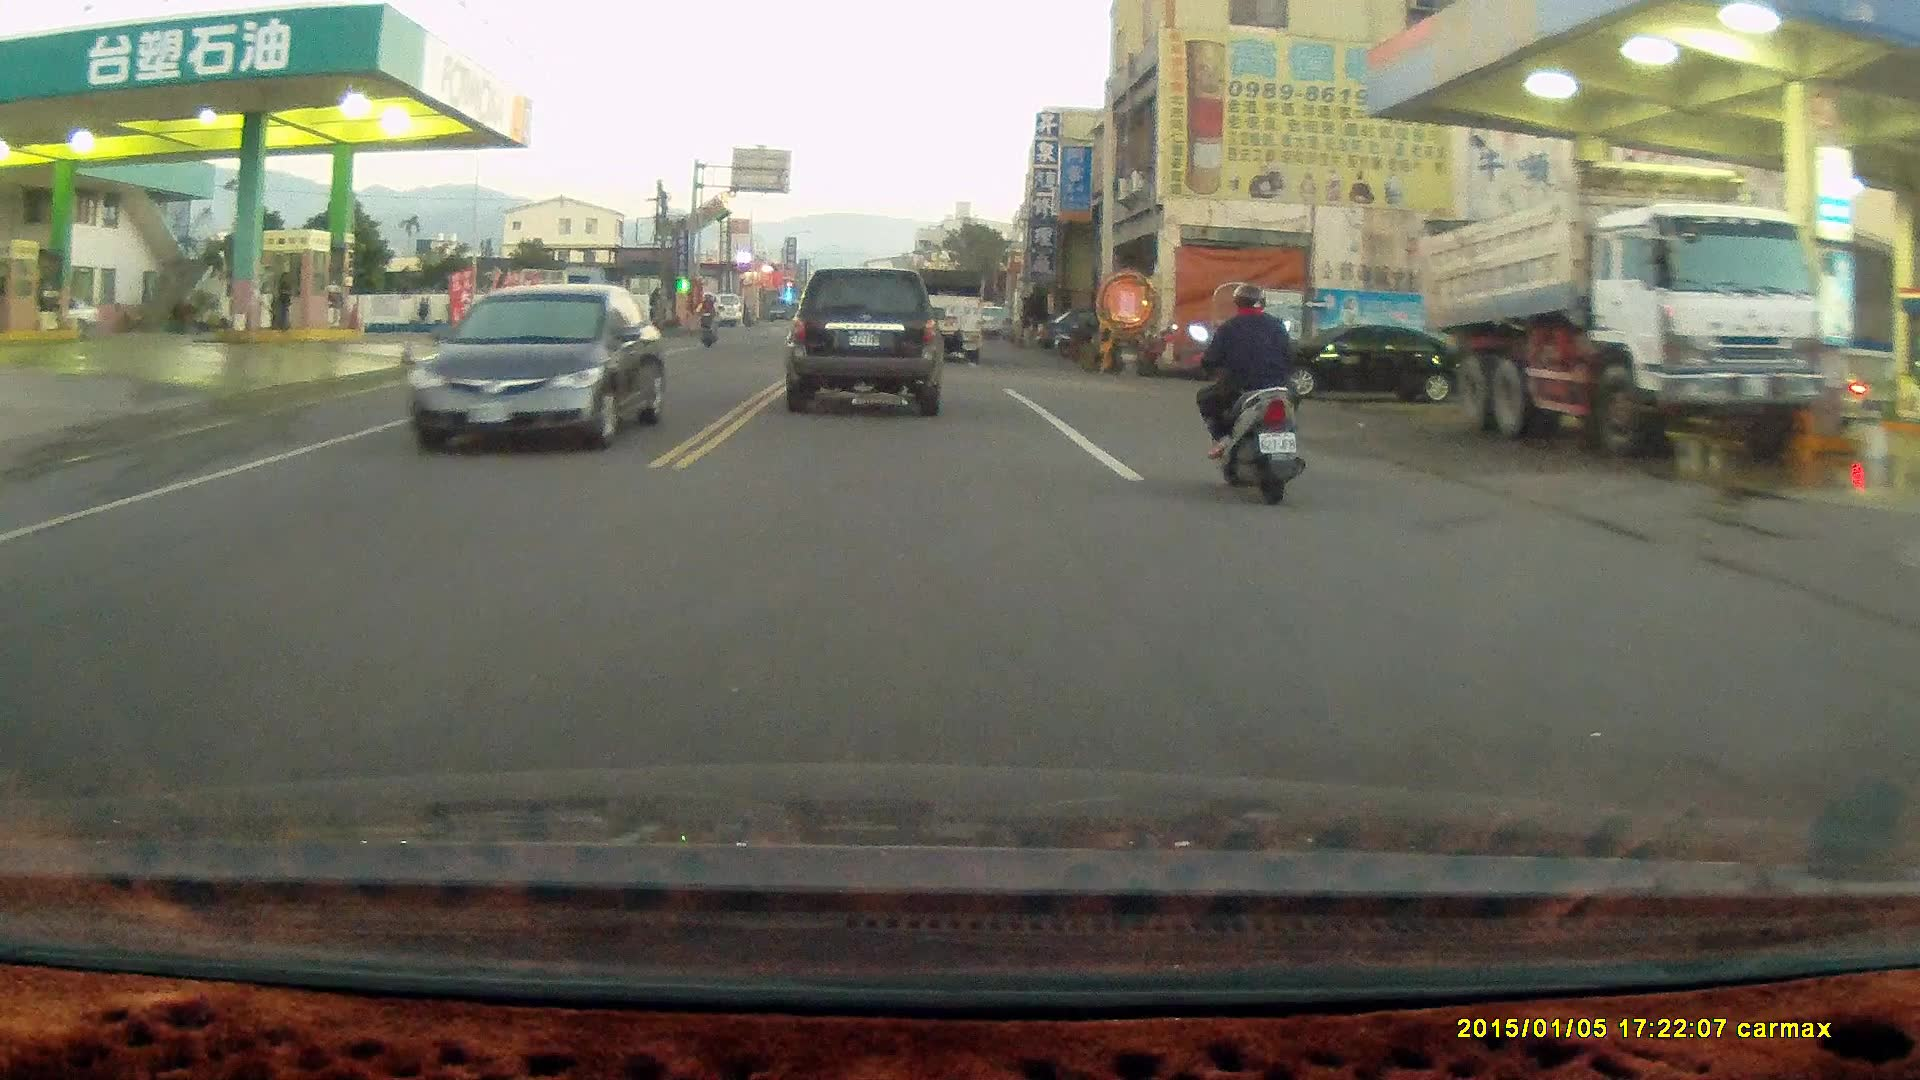rider: (1186, 278, 1304, 507), (692, 285, 722, 346)
vehicle: (1417, 156, 1835, 459), (412, 283, 665, 458), (786, 264, 947, 415), (1281, 324, 1456, 405), (907, 266, 988, 364)
